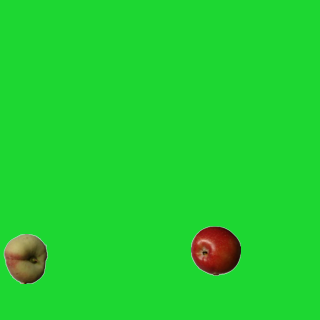Apple Braeburn: (190, 225, 240, 275)
Peach Flat: (0, 233, 50, 283)
